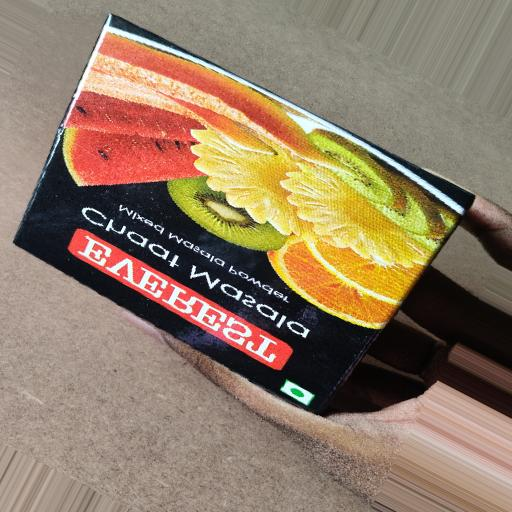Everest Chaat Masala: (1, 11, 500, 436)
